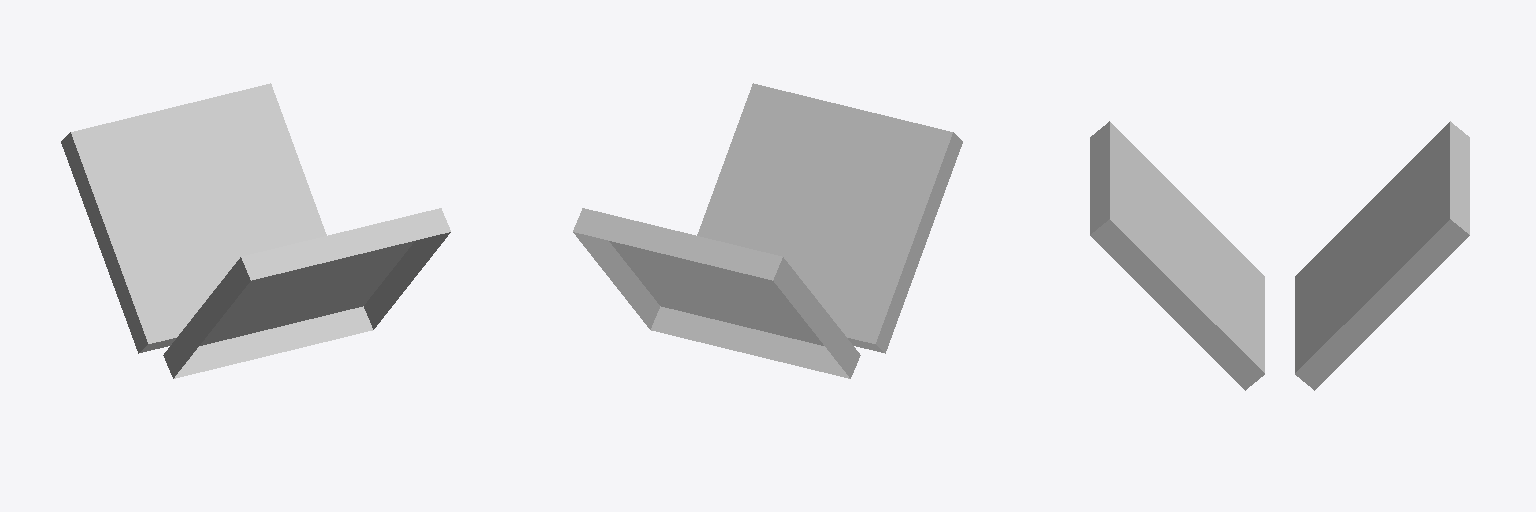
The model's file is MOTL_Weapon_Pages.obj.
The picture shows the model from 3 angles: view 1: azimuth 30°, elevation 25°; view 2: azimuth 150°, elevation 25°; view 3: azimuth 270°, elevation 25°; orthographic projection.
Parts seen in each view (by area): view 1: Plane.001; view 2: Plane.001; view 3: Plane.001.
Boxes of the visible parts, x1=… form: Plane.001: x1=61, y1=83, x2=450, y2=378; Plane.001: x1=573, y1=83, x2=962, y2=378; Plane.001: x1=1090, y1=121, x2=1469, y2=390.
Size of the model in its own units: 0.8629 by 0.7072 by 1.42.